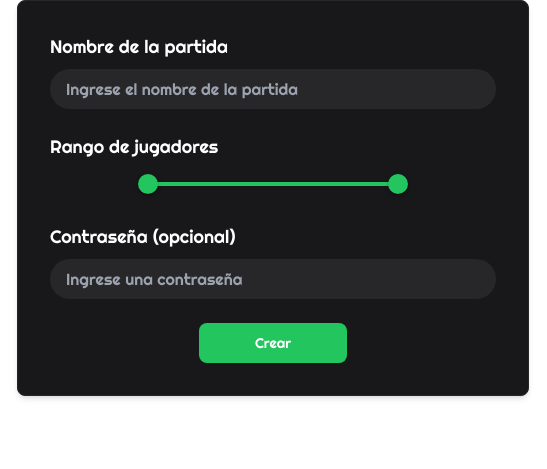
Test: CreateForm › should display validation errors for invalid name
Click the button "Crear".
click(273, 343)  # box 199,323 -> 347,363
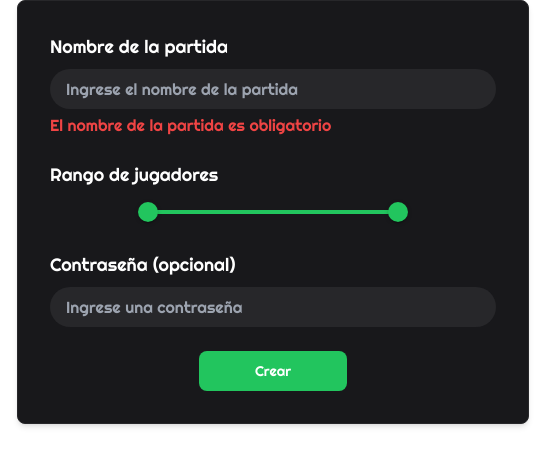
Expected: the text "El nombre de la partida es obligatorio" is shown, 50,115 -> 331,135
Type "averylongnameforagame" into the field with placeholder "Ingrese el nombre de la partida".
click(273, 89); type("averylongnameforagame")  # box 50,69 -> 496,109
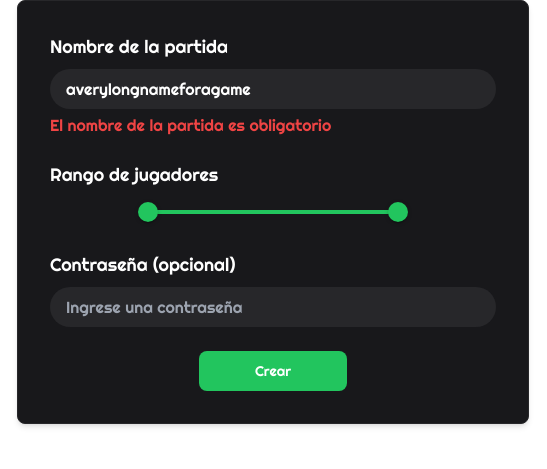
Click the button "Crear".
click(273, 371)  # box 199,351 -> 347,391
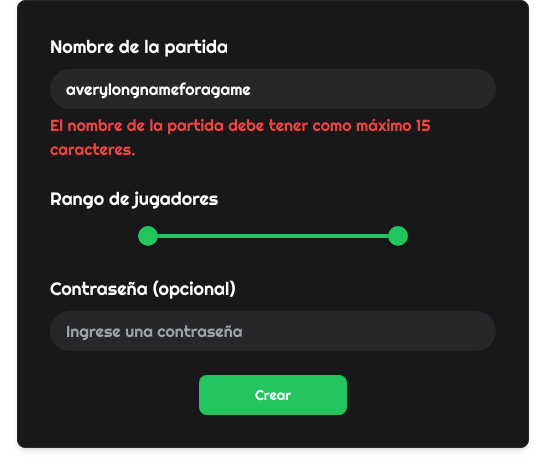
Expected: the text "El nombre de la partida debe tener como máximo 15 caracteres." is shown, 50,113 -> 496,161
